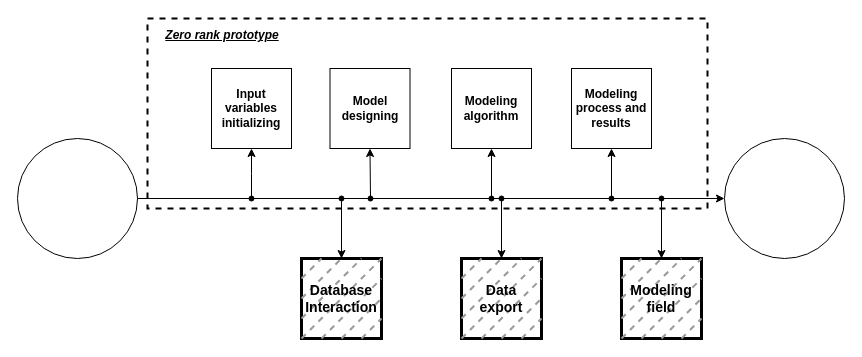
Image size: 862x357. Some labels were removed from this diagram. The box of each missing label's shape, as (x1, y1, x2, y2) in pixels:
Requests: for functioning, for development: (16, 138, 138, 258)
Results: about functioning, about development: (724, 138, 844, 258)
